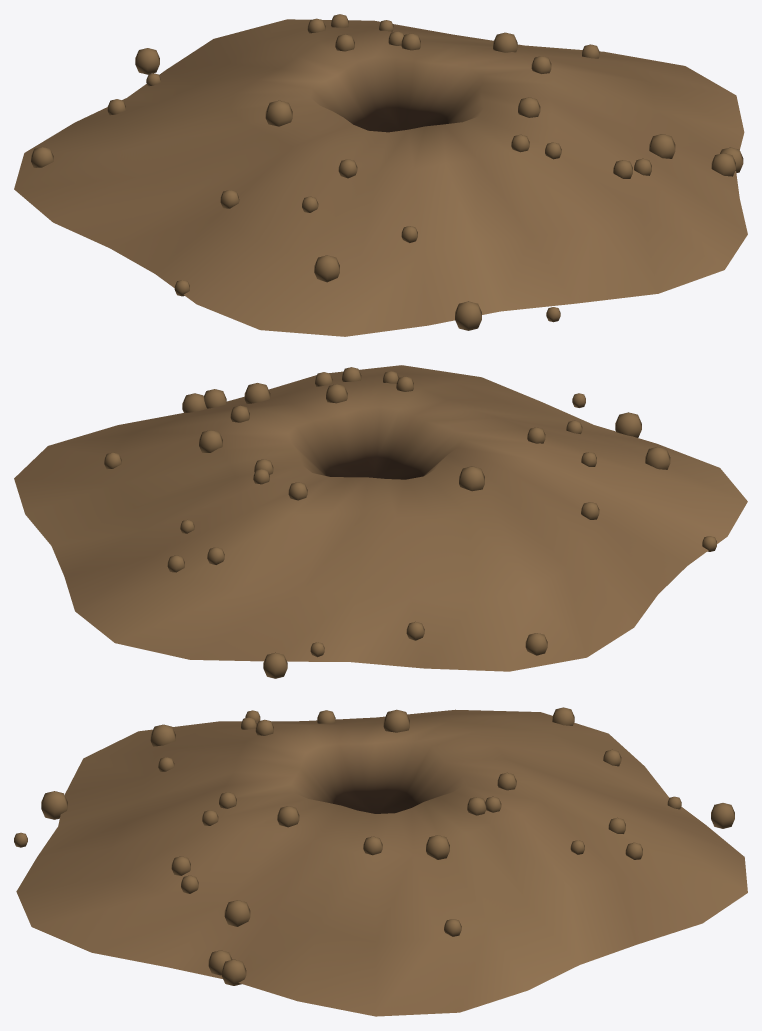
The model's file is AntHill.fbx.
3 renders of one model, top to bottom at view 1: azimuth 30°, elevation 25°; view 2: azimuth 150°, elevation 25°; view 3: azimuth 270°, elevation 25°, orthographic. The views are drawn at different scales.
Parts seen in each view (by area): view 1: AntHill; view 2: AntHill; view 3: AntHill.
Boxes of the visible parts, left/top/right/bottom form: AntHill: left=14, top=14, right=747, bottom=336; AntHill: left=14, top=365, right=747, bottom=678; AntHill: left=14, top=707, right=747, bottom=1016.
Bounding box in the file's own units: 2.77 × 0.4311 × 2.8.
